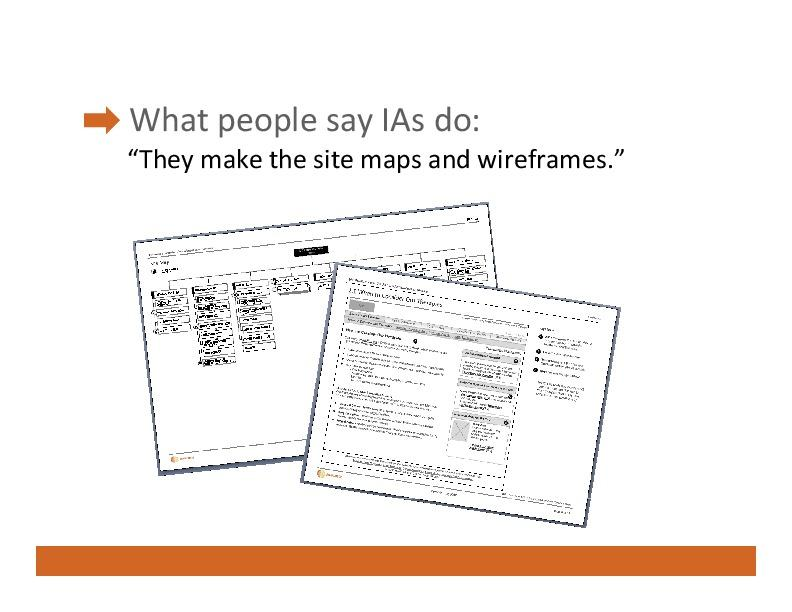title: (125, 102, 527, 140)
